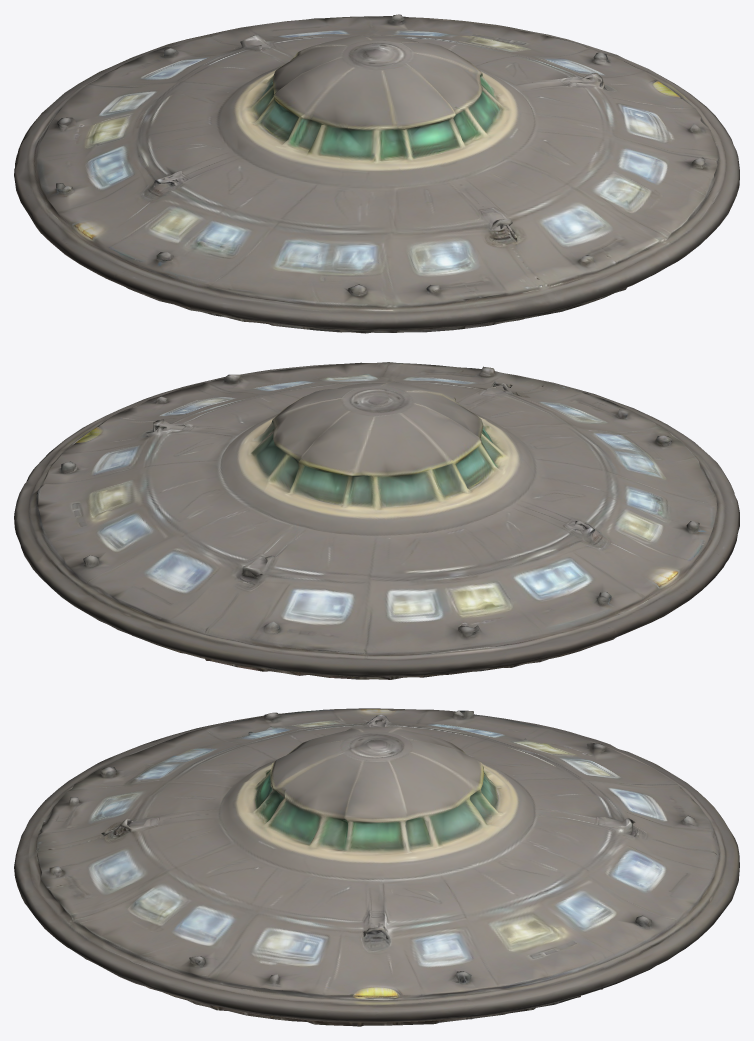
The model's file is UFO_Cruiser_0603105632_texture.glb.
3 renders of one model, top to bottom at view 1: azimuth 30°, elevation 25°; view 2: azimuth 150°, elevation 25°; view 3: azimuth 270°, elevation 25°, orthographic.
Bounding box in the file's own units: 2 × 0.5801 × 2.
1 material, 1 textured.
